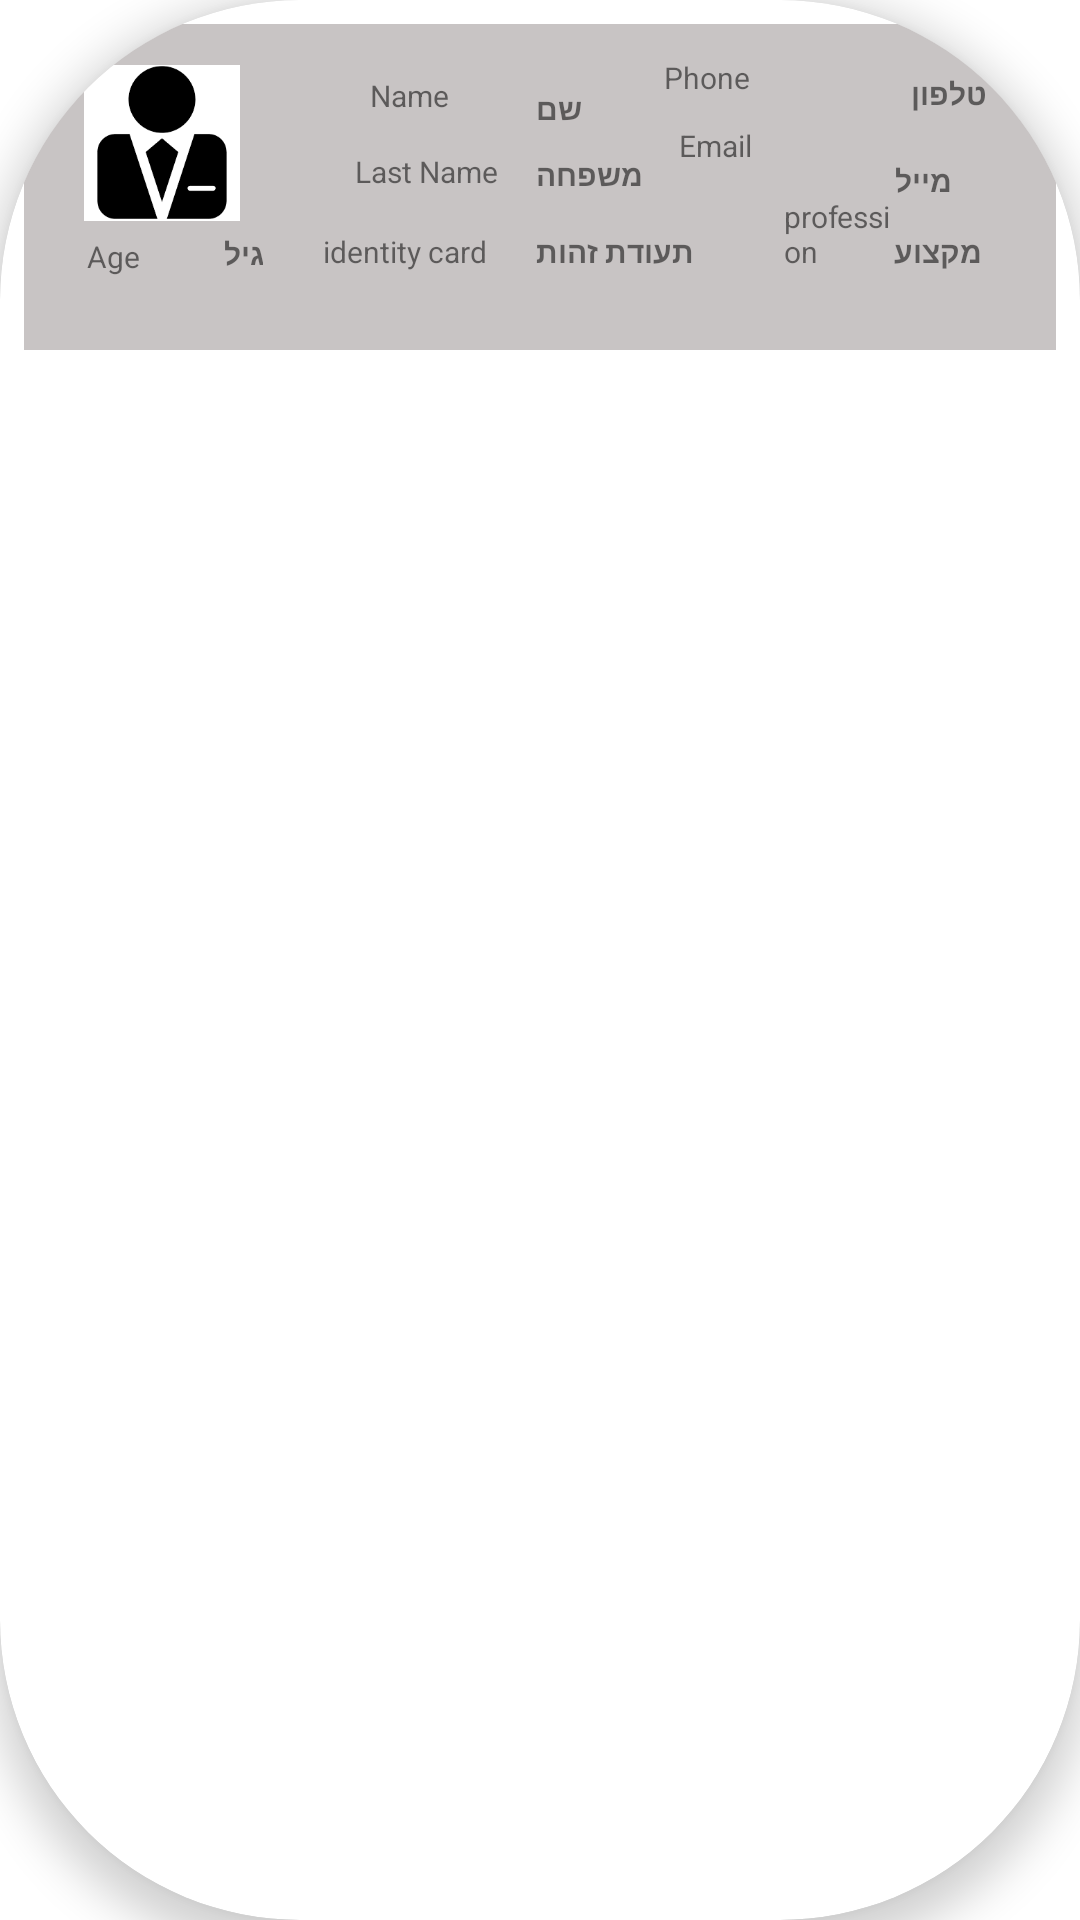

Icons on this 1080 x 1920 Android screen, each with its box as [x1=x1, y1=y1, x2=x2, y2=y2]:
teacher: [x1=84, y1=63, x2=240, y2=221]
